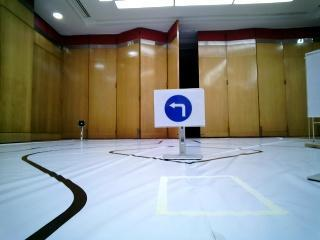left: (161, 93, 198, 120)
